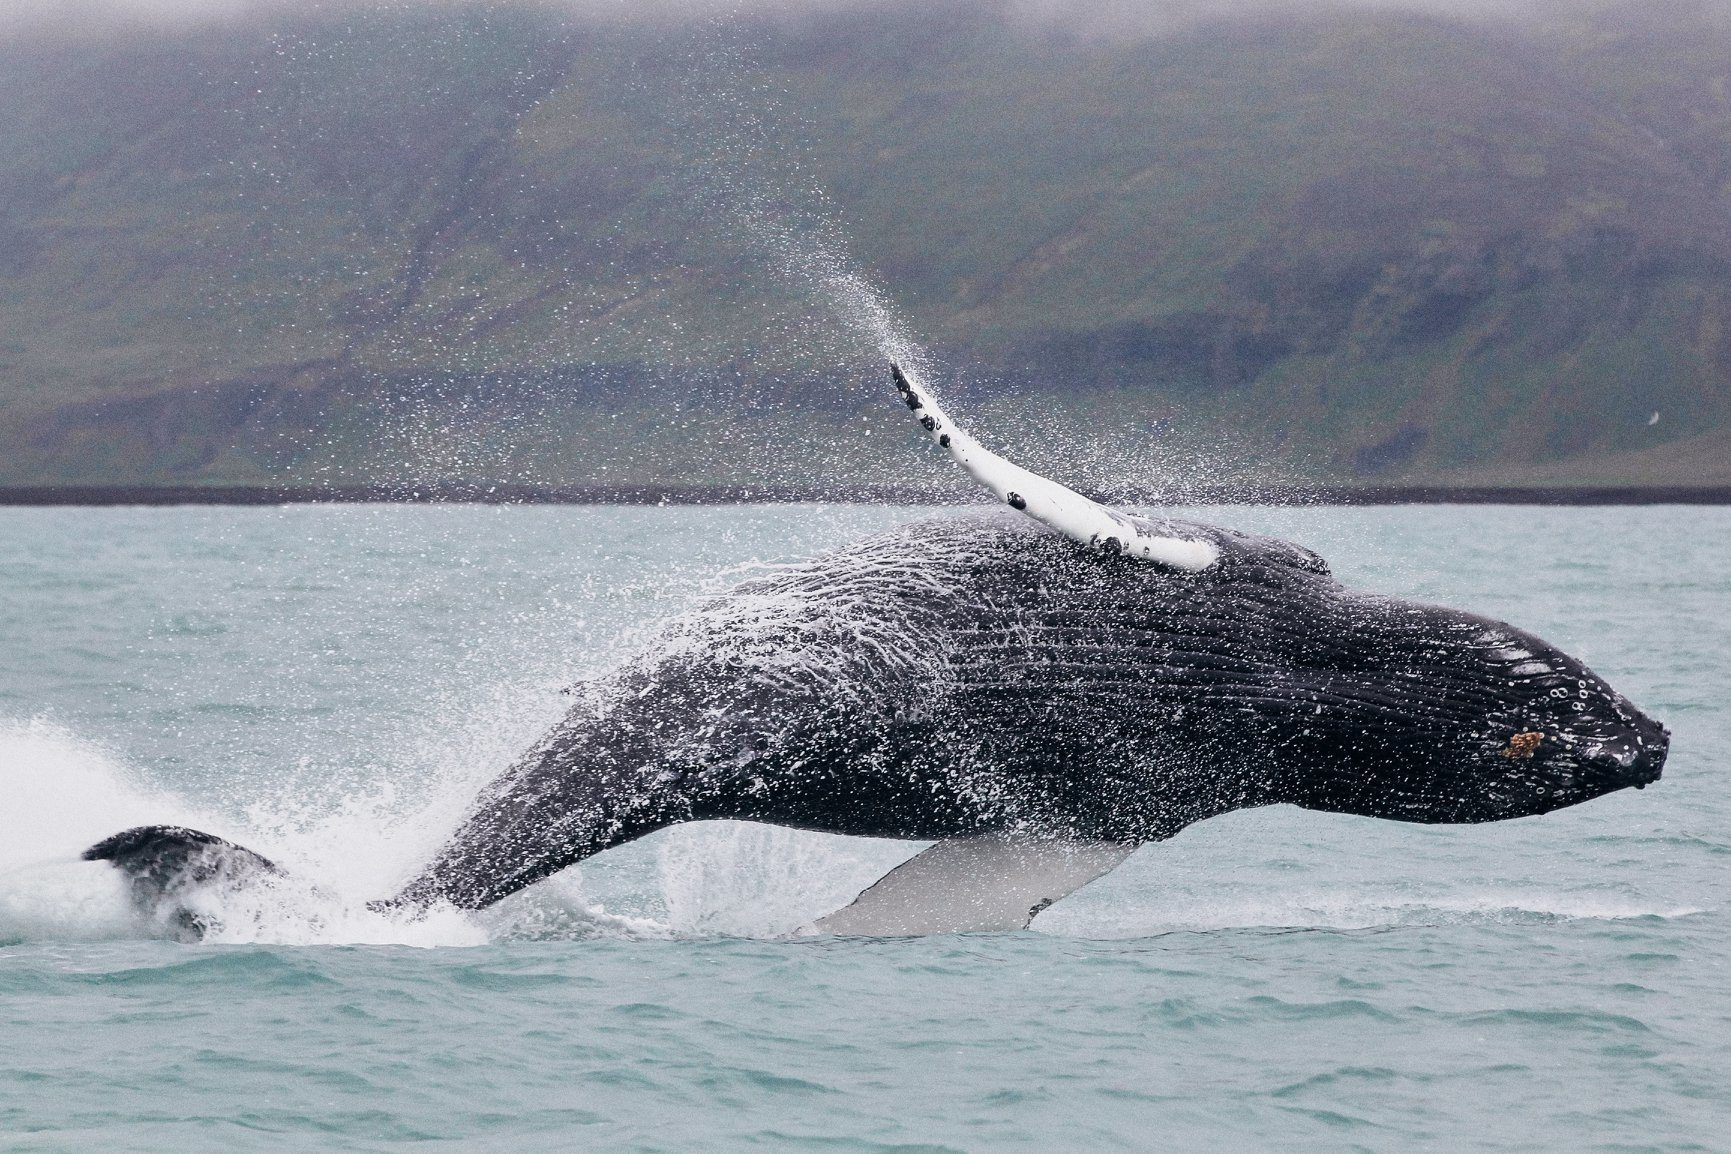humpback: (410, 493, 1687, 884)
